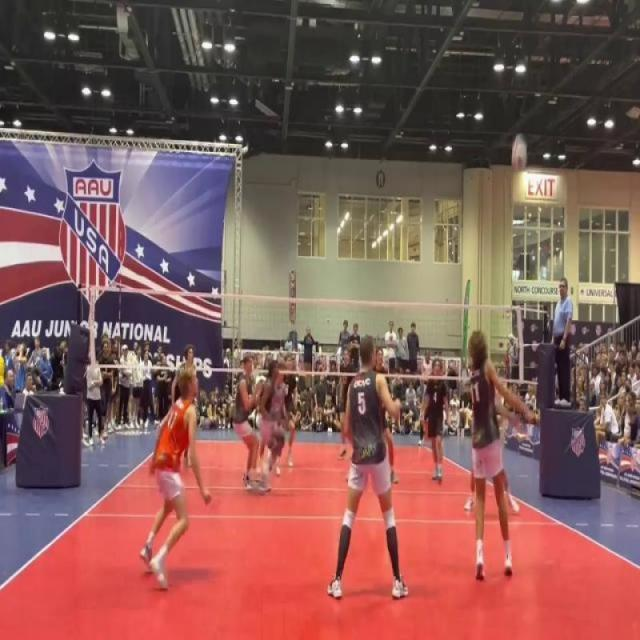volleyball: (510, 132, 530, 176)
